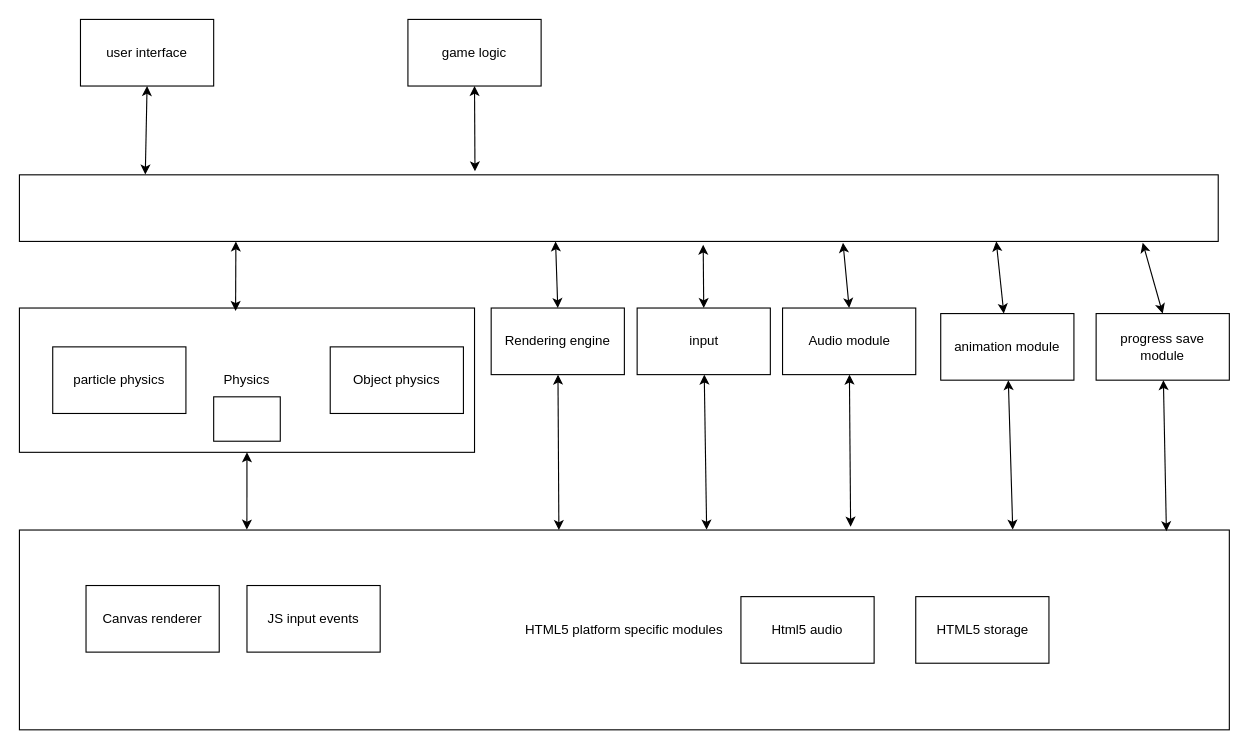
This 1249x749 diagram has some shape labels left out. The shapes that lost their labels are listed below. From the top down, each one's centre as x and y in pixels, then its label:
At [618,207]: "messenger module".
At [246,418]: "Game Math".
